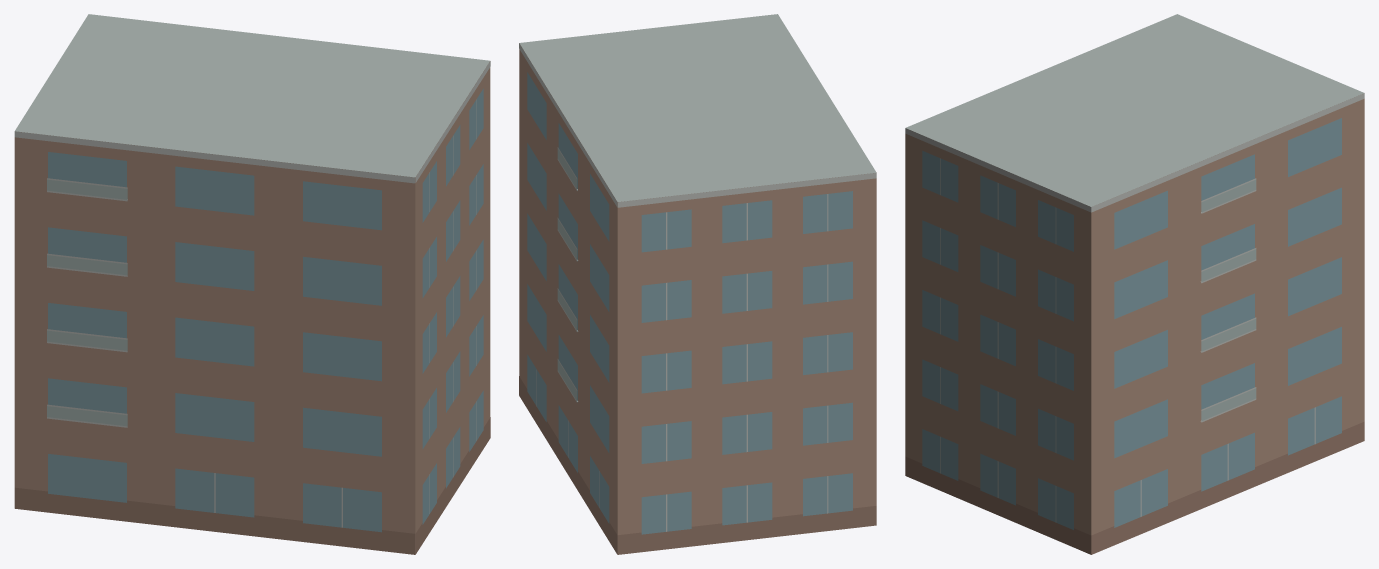
Rendered from survey-upis-32924207.glb.
3 renders of one model, left to right at view 1: azimuth 30°, elevation 25°; view 2: azimuth 150°, elevation 25°; view 3: azimuth 270°, elevation 25°, orthographic. The views are drawn at different scales.
Parts seen in each view (by area): view 1: survey-upis-32924207.tmp; view 2: survey-upis-32924207.tmp; view 3: survey-upis-32924207.tmp.
Part boxes in pixels (x1=…): survey-upis-32924207.tmp: x1=14, y1=14, x2=490, y2=554; survey-upis-32924207.tmp: x1=519, y1=14, x2=876, y2=554; survey-upis-32924207.tmp: x1=905, y1=14, x2=1364, y2=554.
Bounding box in the file's own units: 18.16 × 15.25 × 18.26.
